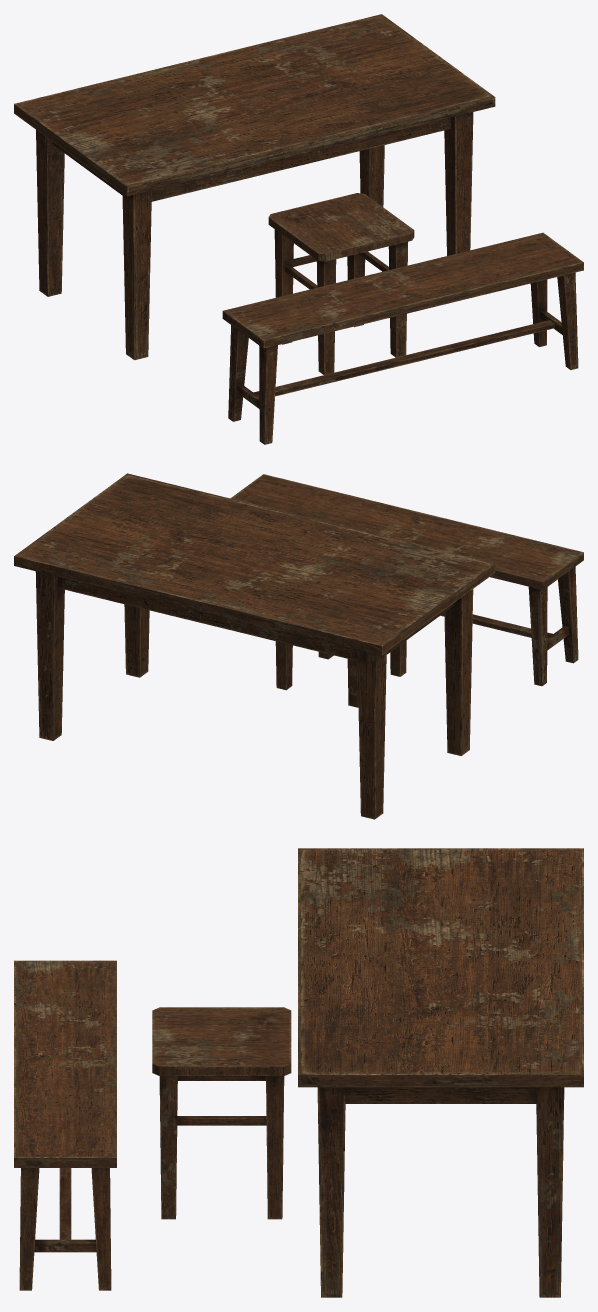
The model's file is Wood_furniture.fbx.
3 renders of one model, top to bottom at view 1: azimuth 30°, elevation 25°; view 2: azimuth 150°, elevation 25°; view 3: azimuth 270°, elevation 25°, orthographic. The views are drawn at different scales.
Visible parts, largest first — view 1: Table, Bench, Stool; view 2: Table, Bench, Stool; view 3: Table, Bench, Stool.
Part boxes in pixels (bbox=[...]): Table: bbox=[14, 14, 495, 360]; Bench: bbox=[222, 232, 583, 444]; Stool: bbox=[268, 193, 414, 374]; Table: bbox=[14, 473, 495, 819]; Bench: bbox=[230, 474, 583, 686]; Stool: bbox=[275, 640, 406, 707]; Table: bbox=[298, 848, 583, 1297]; Bench: bbox=[14, 960, 116, 1290]; Stool: bbox=[152, 1007, 291, 1219].
Size of the model in its own units: 171 by 81.97 by 182.
Materials: 3 (3 with a texture image).
